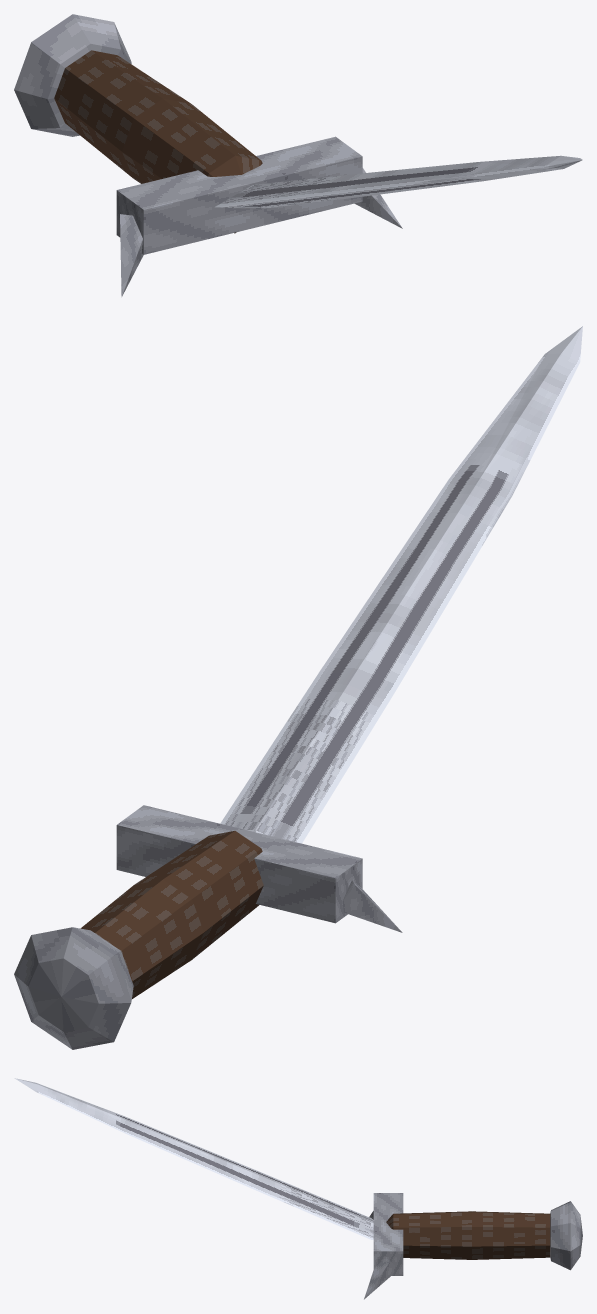
The model's file is blade.glb.
3 views of the same model, one above another, from view 1: azimuth 30°, elevation 25°; view 2: azimuth 150°, elevation 25°; view 3: azimuth 270°, elevation 25° (orthographic). The views are drawn at different scales.
Visible parts, largest first — view 1: sword; view 2: sword; view 3: sword.
Boxes of the visible parts, <box> form: sword: <box>14,14,582,296</box>; sword: <box>14,326,582,1049</box>; sword: <box>14,1078,582,1299</box>.
Size of the model in its own units: 0.1296 by 0.1541 by 0.4158.
Materials: 1 (1 with a texture image).
